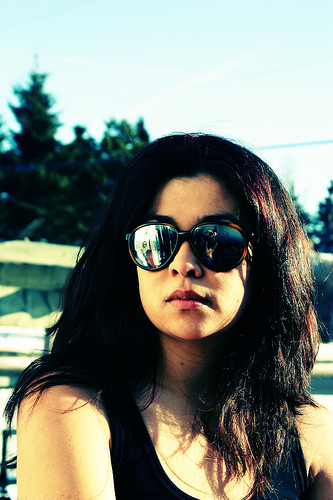without_mask: (113, 147, 297, 361)
